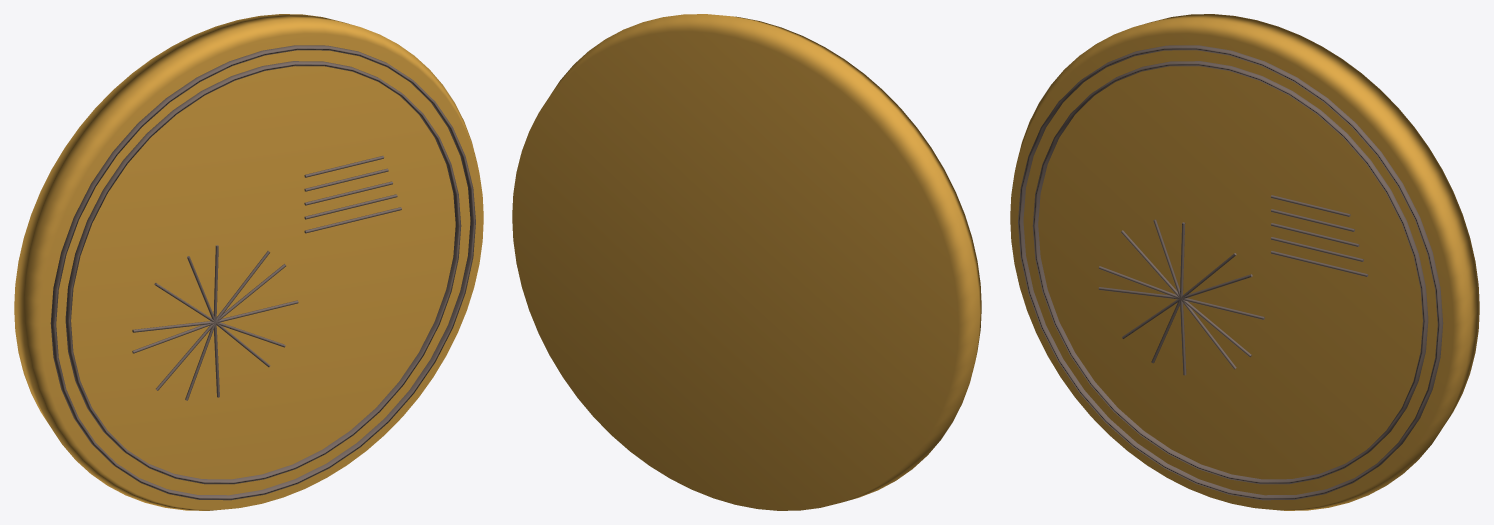
Rendered from voyager_record.glb.
3 views of the same model, side by side, from view 1: azimuth 30°, elevation 25°; view 2: azimuth 150°, elevation 25°; view 3: azimuth 330°, elevation 25° (orthographic).
Parts seen in each view (by area): view 1: voyager_record.mesh_Gold_thermal_insulation, voyager_record.mesh_Heat-stained_alloy; view 2: voyager_record.mesh_Gold_thermal_insulation; view 3: voyager_record.mesh_Gold_thermal_insulation, voyager_record.mesh_Heat-stained_alloy.
Boxes of the visible parts, x1,y1,x2,y2 form: voyager_record.mesh_Gold_thermal_insulation: (14, 14, 483, 510); voyager_record.mesh_Heat-stained_alloy: (50, 45, 475, 500); voyager_record.mesh_Gold_thermal_insulation: (512, 14, 981, 510); voyager_record.mesh_Gold_thermal_insulation: (1010, 14, 1479, 510); voyager_record.mesh_Heat-stained_alloy: (1018, 45, 1443, 500).
Size of the model in its own units: 0.31 by 0.31 by 0.032.
